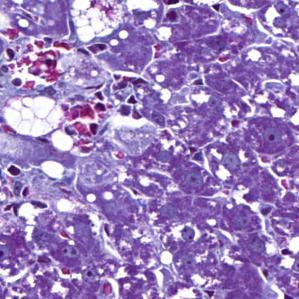ballooning: (4, 92, 68, 139), (69, 3, 129, 46)
